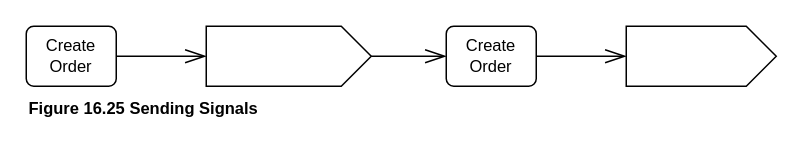
This 803x158 diagram has some shape labels left out. The box of each missing label's shape, as (x1, y1, x2, y2) in pixels:
Fill order request: (205, 25, 371, 86)
Notify customer: (625, 25, 776, 86)
